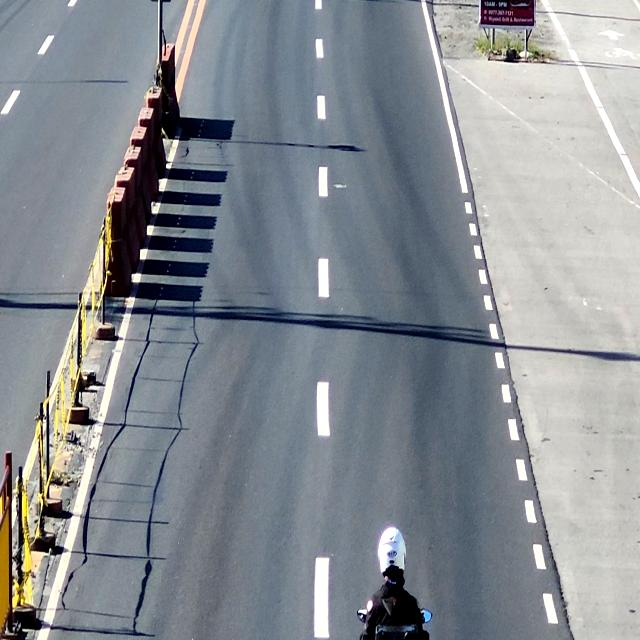Motorcycle: (352, 518, 433, 640)
